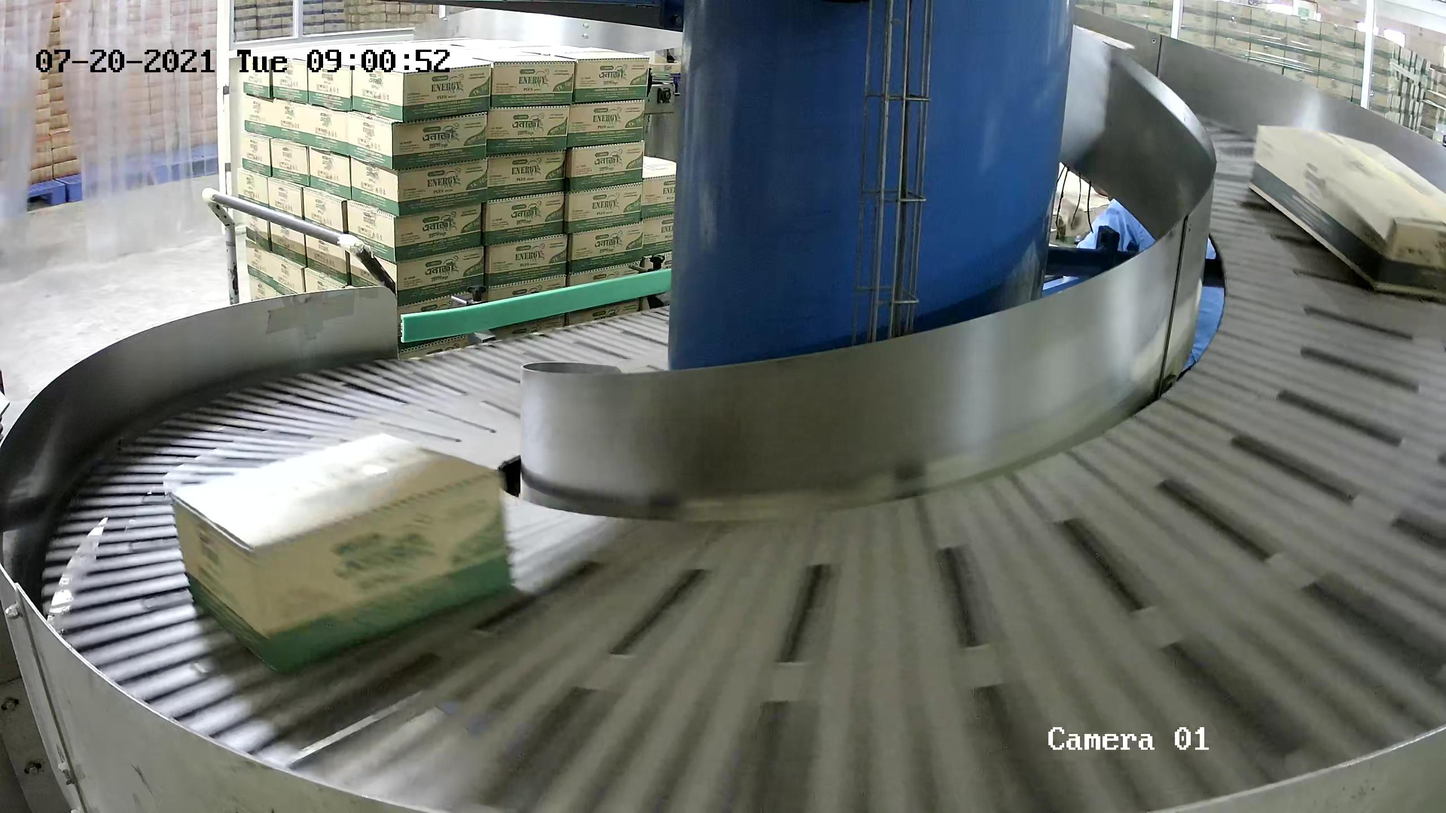Box: (168, 427, 518, 672), (1247, 122, 1446, 304)
